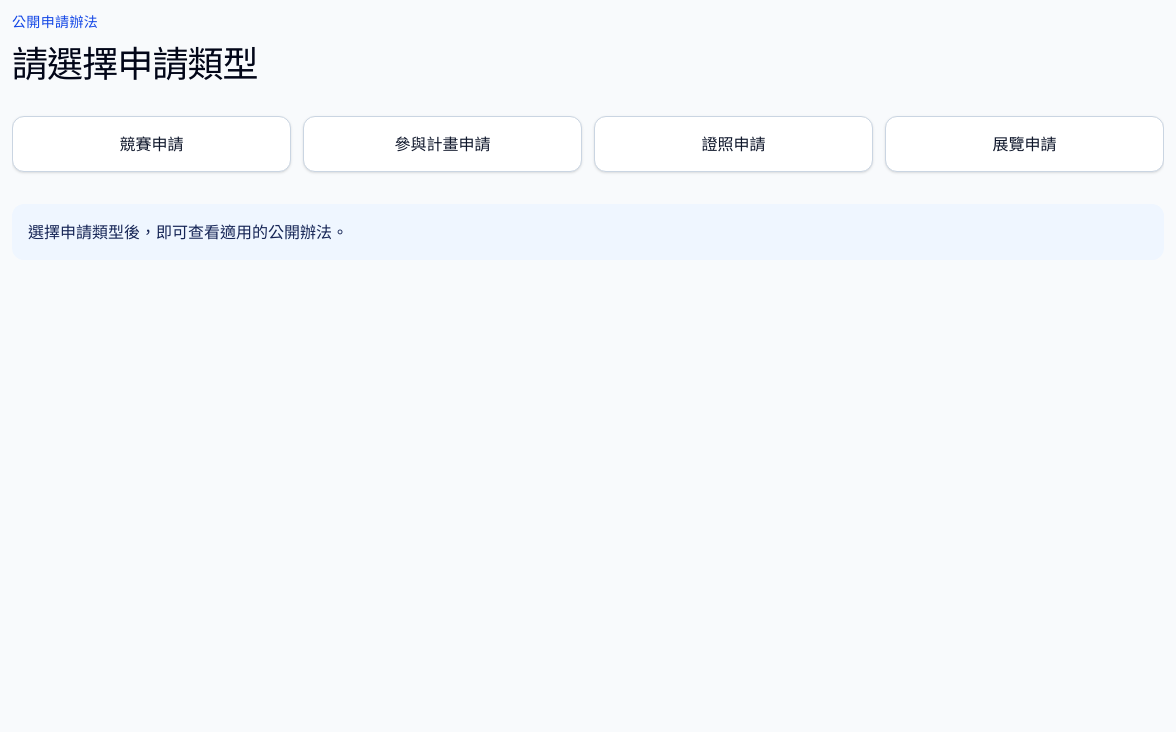
Test case: PublishedInstructionsPage › shows a safe error and retries the failed query
Click the button "證照申請": (734,144) [594,116,873,172]
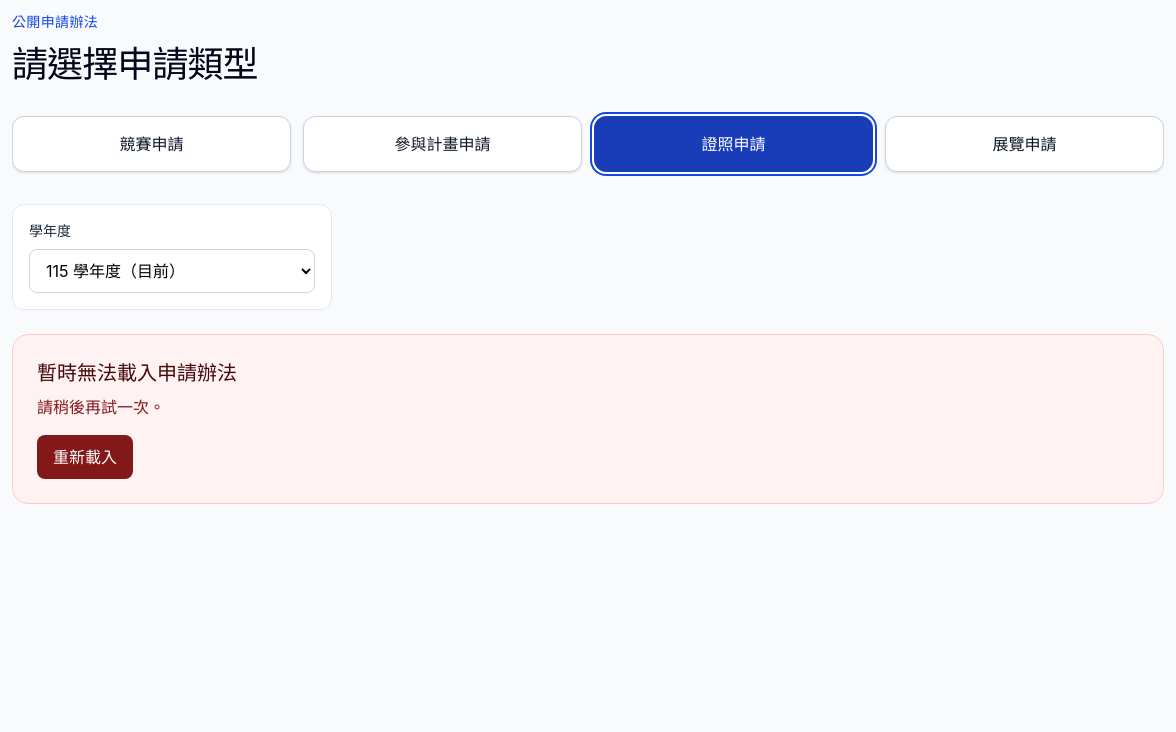
Check: the message shows "暫時無法載入申請辦法", box [37,361,237,385]
Click the button "重新載入": (85,457) [37,435,133,479]
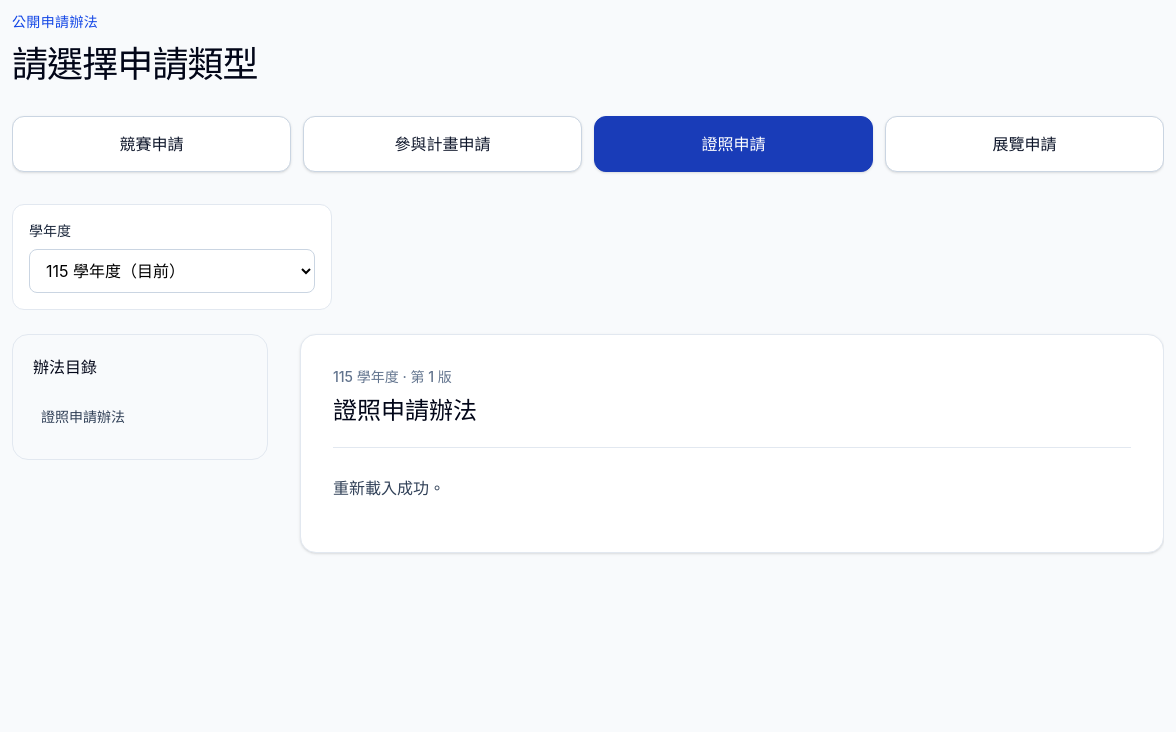
Check: the text "重新載入成功。" is shown, box [333,478,445,498]
Check: the message "暫時無法載入申請辦法 請稍後再試一次。 重新載入" is gone
